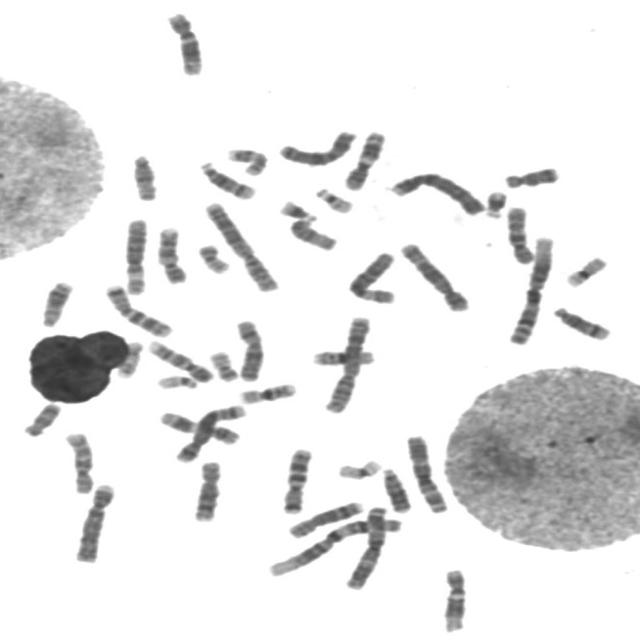A1: (262, 512, 401, 578), (502, 230, 558, 346)
A2: (198, 196, 282, 294), (317, 310, 374, 415)
A3: (338, 500, 392, 590), (399, 429, 451, 514)
B4: (384, 167, 487, 217), (66, 478, 118, 564)
B5: (394, 237, 472, 313), (169, 399, 249, 464)
C10: (58, 427, 98, 495), (500, 200, 538, 266)
C11: (152, 406, 242, 446), (338, 125, 388, 192)
C12: (162, 7, 206, 76), (434, 563, 470, 633)
C6: (342, 246, 399, 305), (116, 212, 151, 296)
C7: (99, 280, 175, 338), (276, 443, 315, 516)
C8: (281, 496, 366, 540), (186, 456, 225, 524)
C9: (142, 336, 215, 384), (150, 222, 189, 285)
D13: (34, 276, 76, 328), (376, 462, 415, 514)
D14: (193, 156, 257, 200), (546, 301, 614, 342)
D15: (283, 214, 340, 251), (124, 149, 160, 202)
E16: (233, 378, 298, 404), (305, 344, 378, 367)
E17: (220, 142, 270, 176), (110, 336, 145, 379)
E18: (15, 398, 62, 438), (498, 161, 563, 189)
F19: (558, 251, 610, 288), (329, 454, 384, 481)
F20: (191, 238, 232, 275), (202, 346, 240, 383)
G21: (272, 194, 319, 223), (477, 185, 510, 219)
G22: (309, 183, 355, 215), (150, 370, 200, 391)
X: (271, 124, 359, 168), (229, 314, 267, 383)
